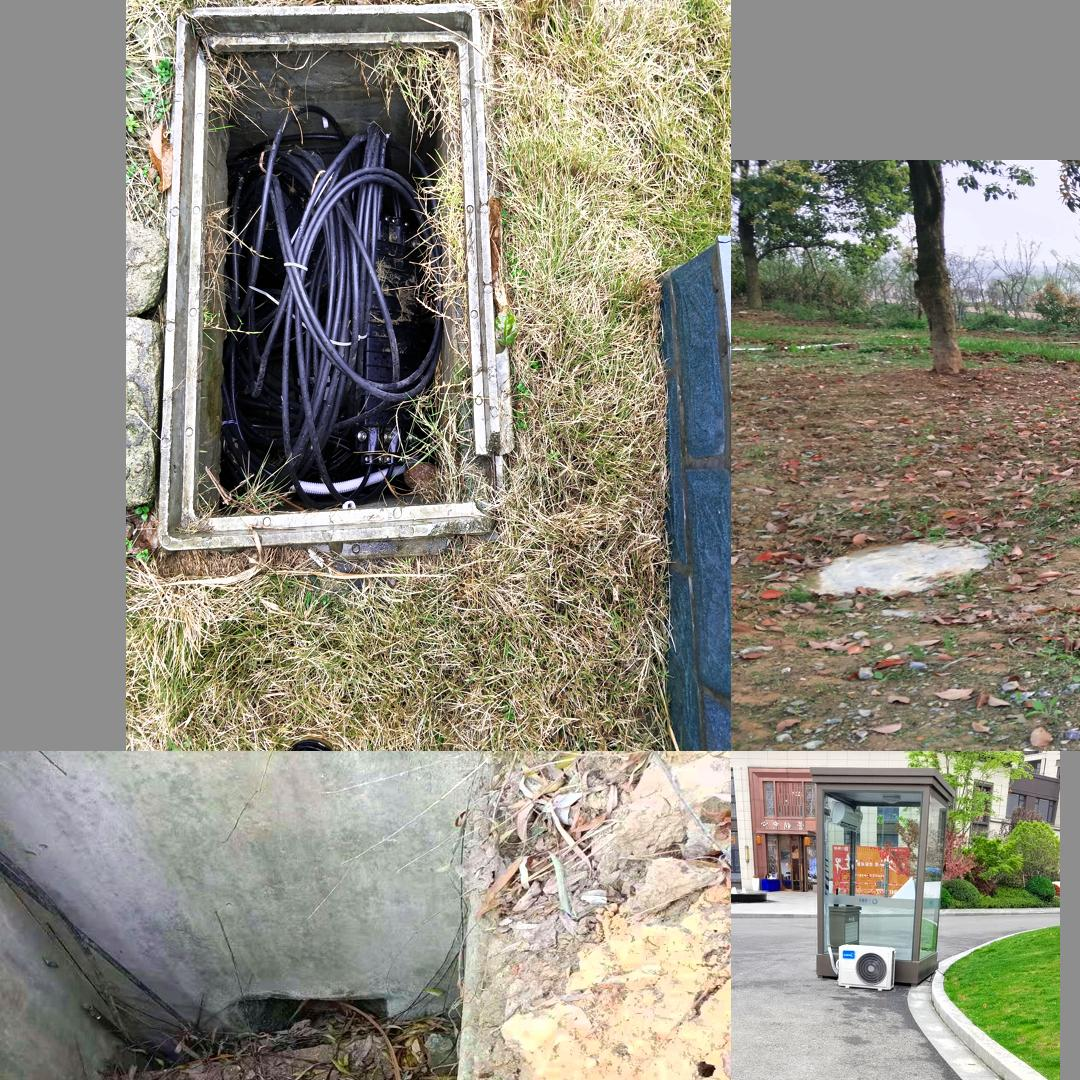lose: (161, 0, 505, 543), (0, 767, 573, 1080)
